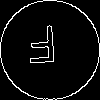F: (25, 25, 59, 73)
